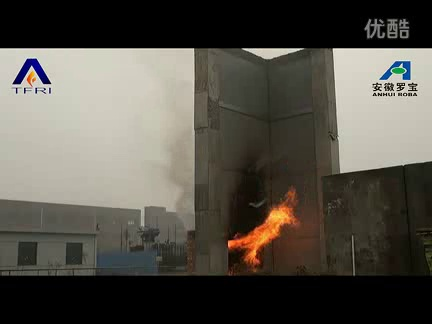fire: (226, 184, 299, 274)
